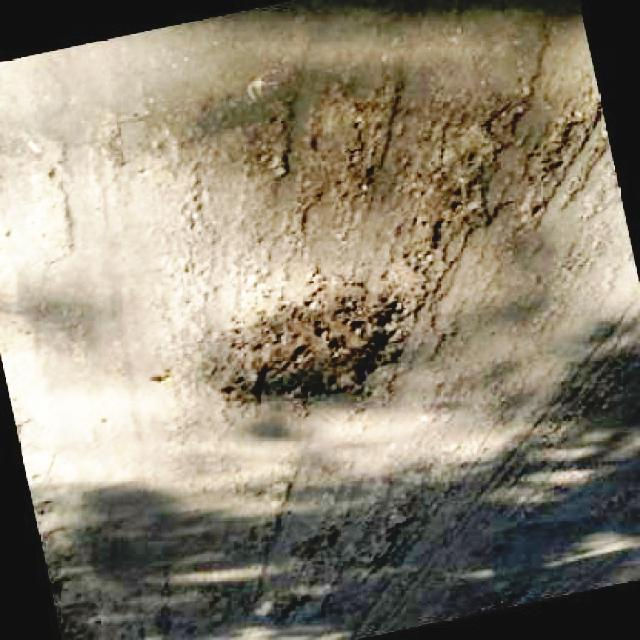pothole: (217, 257, 406, 409)
